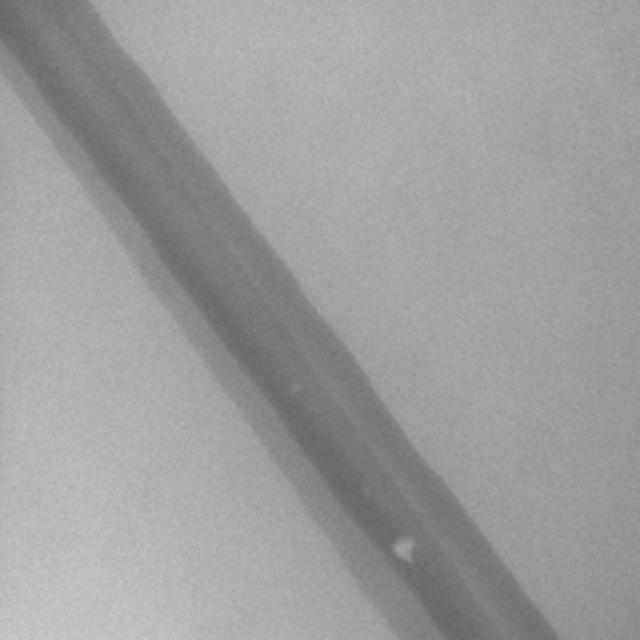slag inclusion: (394, 538, 415, 567)
